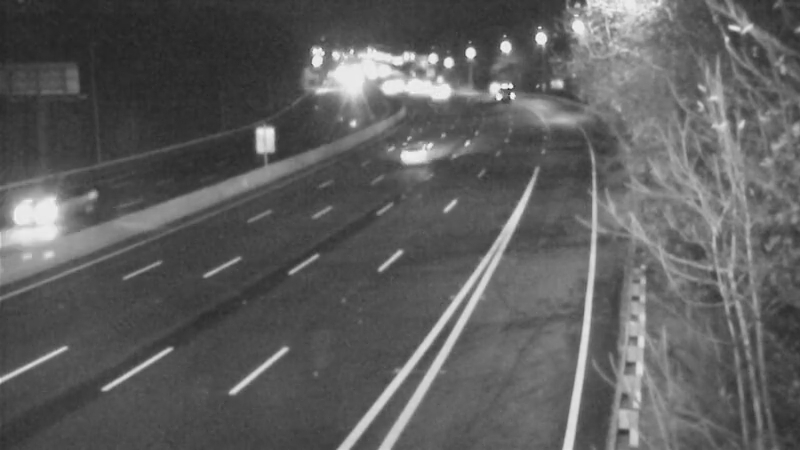vehicle: (378, 116, 458, 196), (1, 176, 80, 256), (478, 59, 528, 109)
